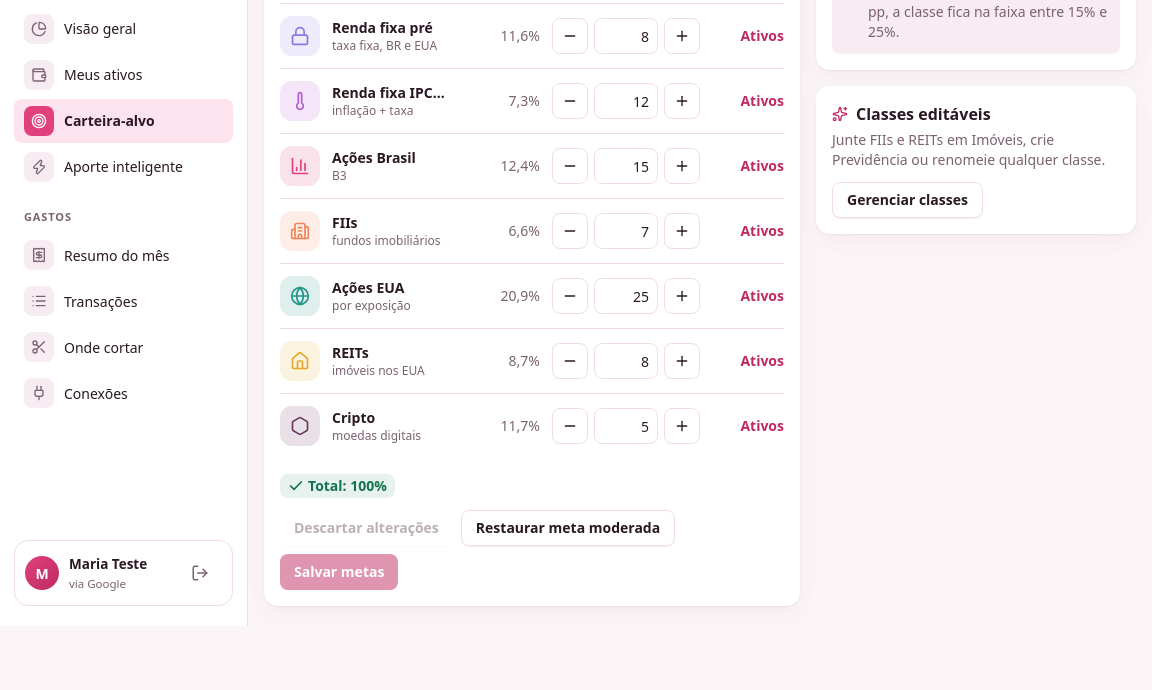
Scenario: carteira-alvo: edição e salvamento › + em Cripto estoura o total e − em REITs fecha 100%
(page scrolled)
Expected: the field named "Meta de Cripto" is shown, [594, 408, 658, 444]
Click the button named "Aumentar Cripto" at (682, 426), box [664, 408, 700, 444]
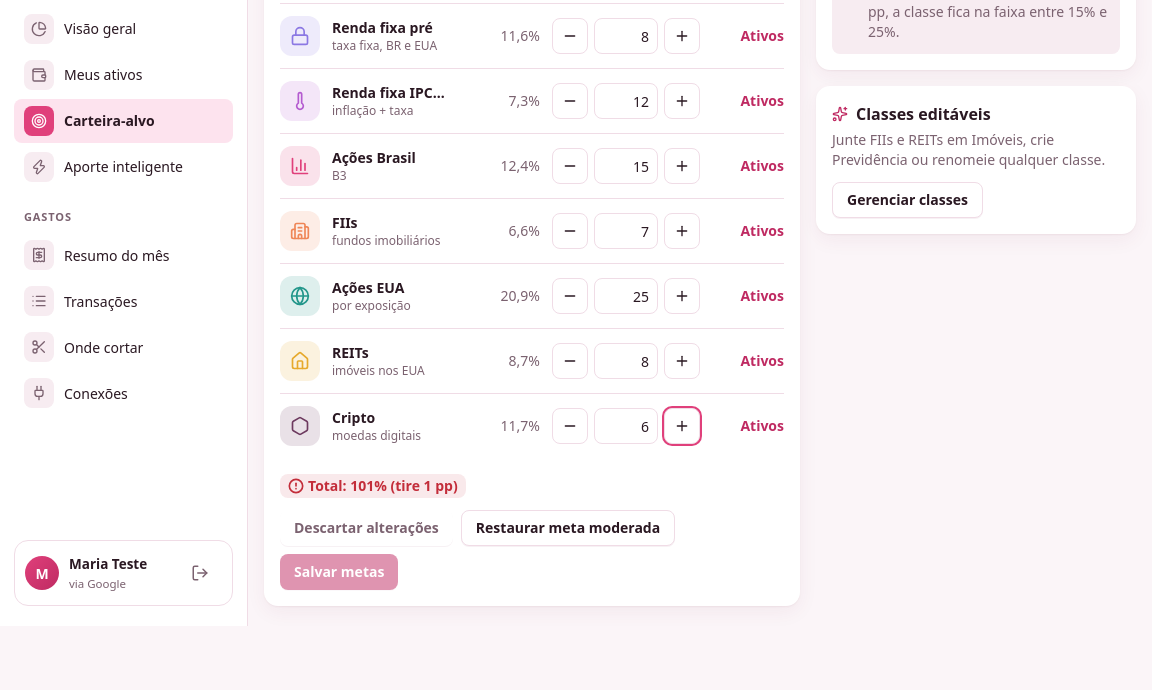
Expected: the button "Salvar metas" is disabled, [280, 554, 398, 590]
Expected: the field named "Meta de Cripto" holds "6", [594, 408, 658, 444]
Expected: the text "Total: 101% (tire 1 pp)" is shown, [280, 474, 466, 498]
Click the button named "Diminuir REITs" at (570, 361), box [552, 343, 588, 379]
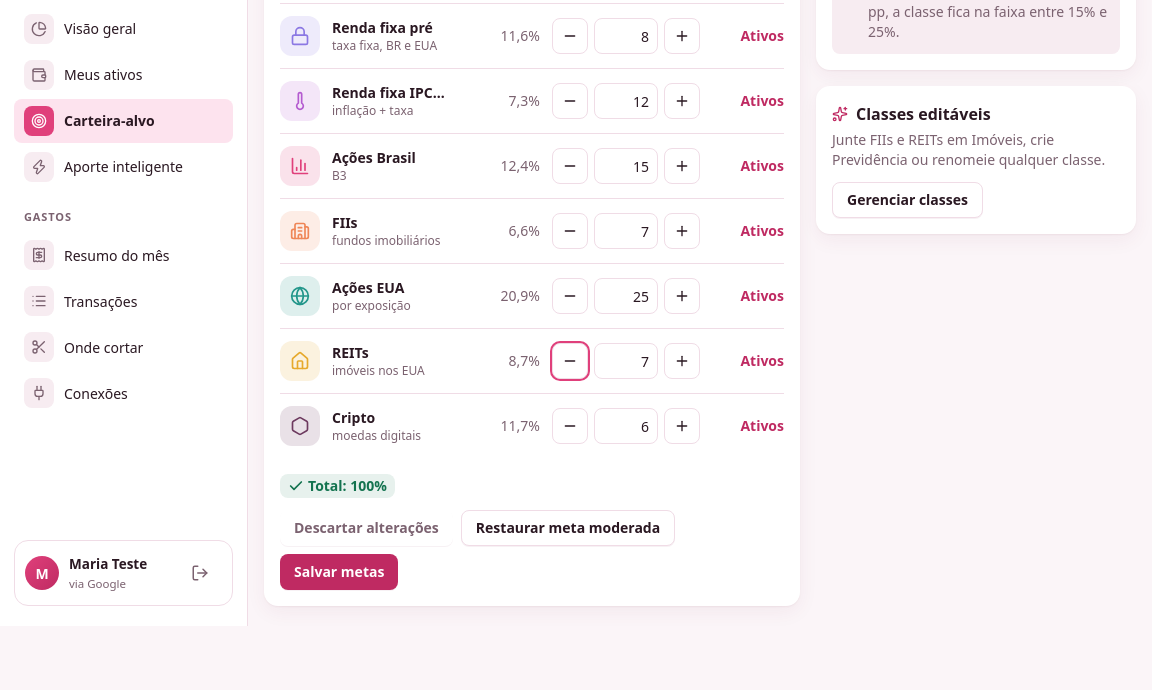
Expected: the text "Total: 100%" is shown, [280, 474, 395, 498]
Expected: the button "Salvar metas" is enabled, [280, 554, 398, 590]
